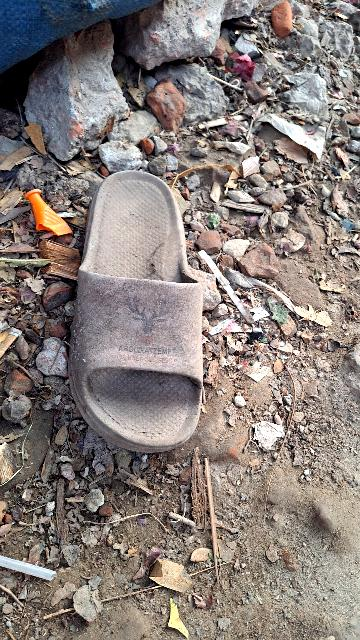sandal: (64, 165, 223, 453)
